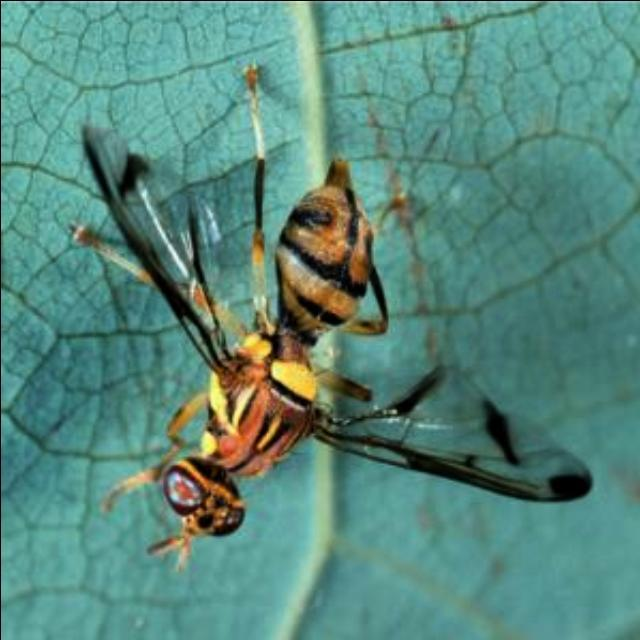melon fly: (44, 51, 594, 594)
